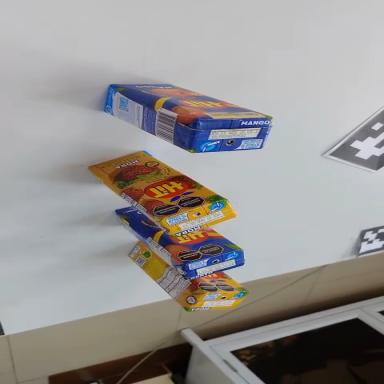HIT-MANGO: (98, 66, 274, 173), (104, 204, 250, 292)
HIT-MORA: (80, 131, 241, 259), (117, 238, 251, 329)
cara_F: (83, 131, 226, 243), (111, 177, 242, 287), (109, 65, 273, 141), (194, 271, 248, 293)
